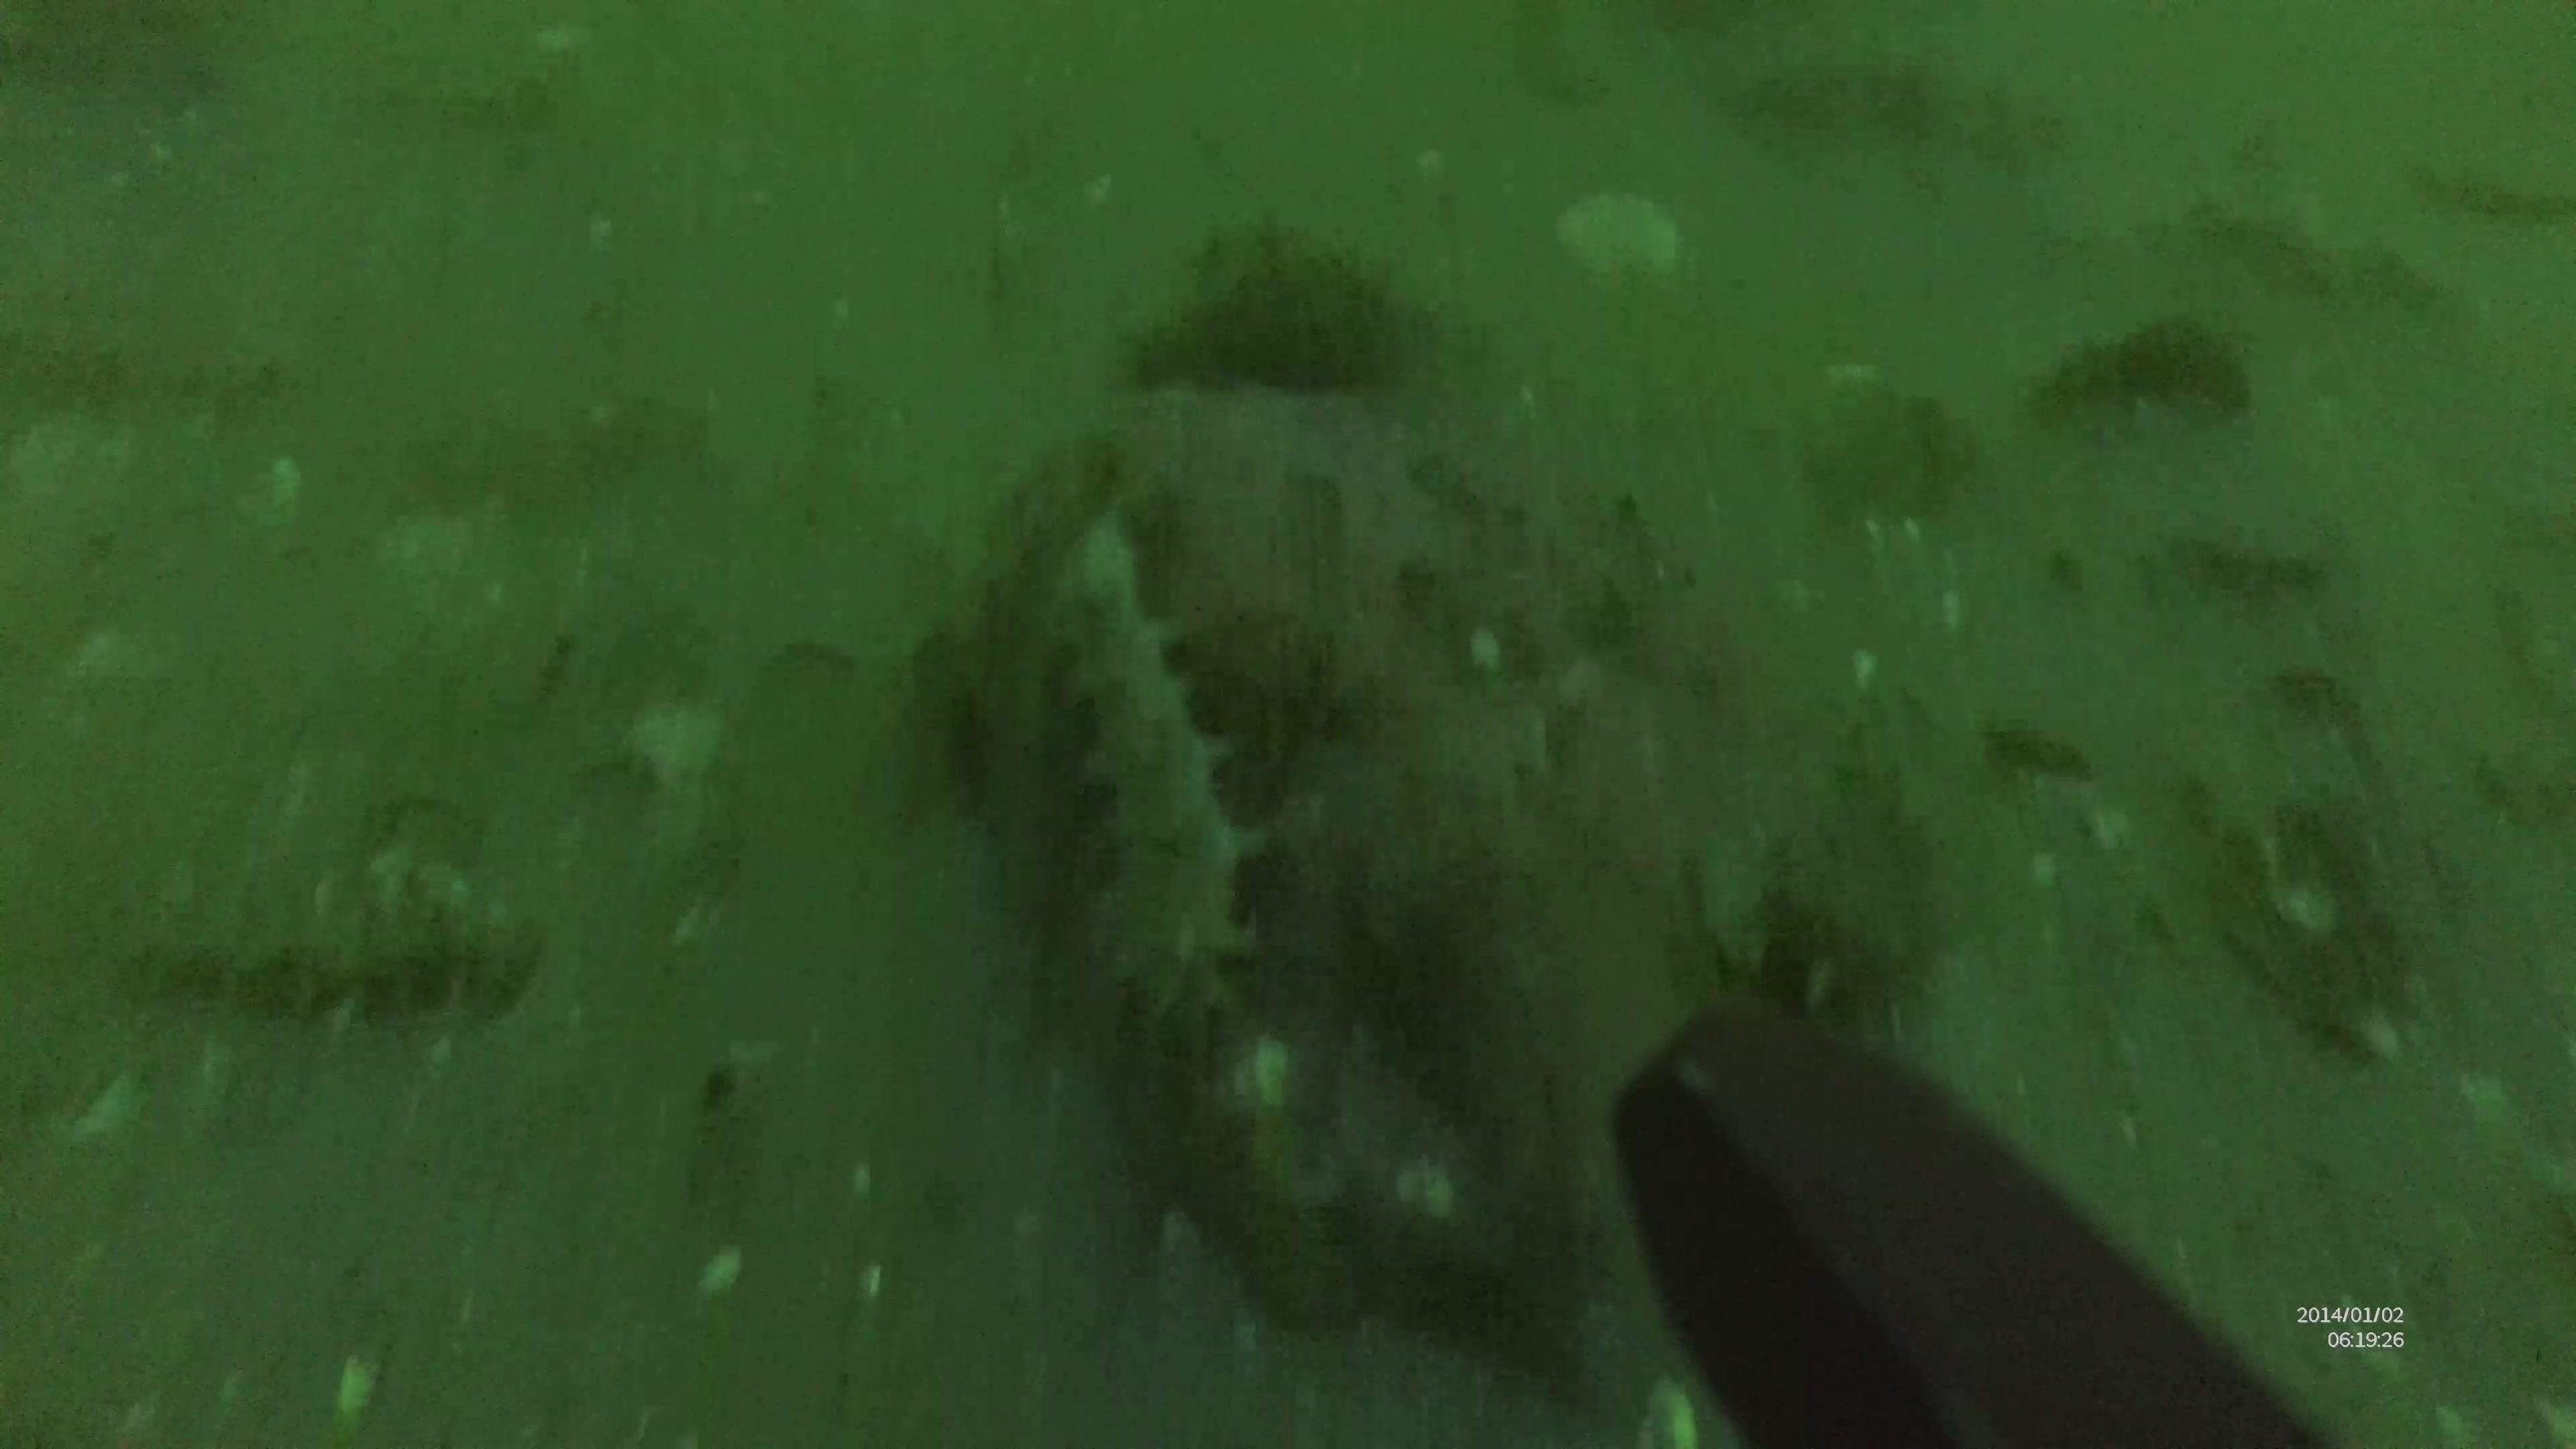holothurian: (1044, 513, 1263, 1005), (99, 879, 550, 1017)
scallop: (1559, 186, 1688, 288), (612, 685, 731, 782)
